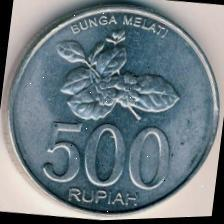coin_500_e2003: (6, 3, 221, 217)
